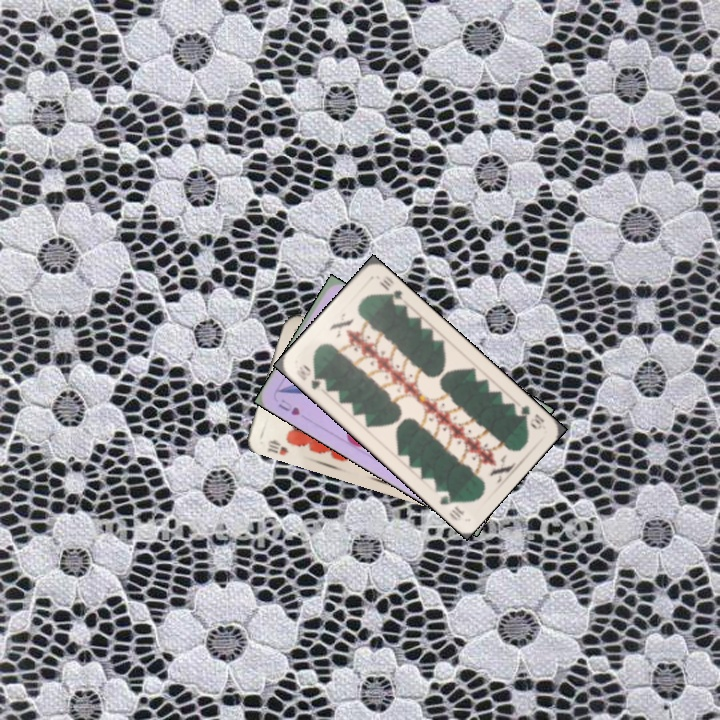G10: (513, 399, 547, 432), (292, 362, 324, 392)
H10: (263, 435, 292, 458)
HU: (274, 395, 303, 418)
